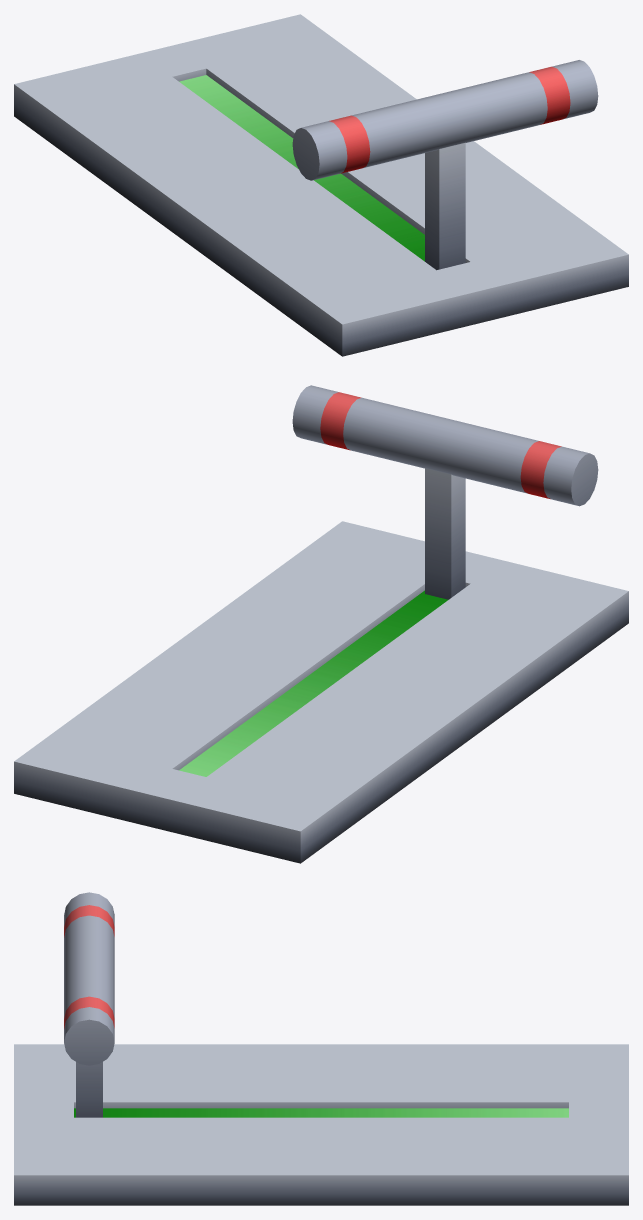
File: Switch1.FBX
3 renders of one model, top to bottom at view 1: azimuth 30°, elevation 25°; view 2: azimuth 150°, elevation 25°; view 3: azimuth 270°, elevation 25°, orthographic. The views are drawn at different scales.
Parts seen in each view (by area): view 1: Switch1_Base, Switch1_Handle; view 2: Switch1_Base, Switch1_Handle; view 3: Switch1_Base, Switch1_Handle.
Part boxes in pixels (left/top/right/bottom): Switch1_Base: left=14, top=14, right=628, bottom=356; Switch1_Handle: left=292, top=60, right=598, bottom=270; Switch1_Base: left=14, top=521, right=628, bottom=863; Switch1_Handle: left=292, top=385, right=598, bottom=599; Switch1_Base: left=14, top=1044, right=628, bottom=1205; Switch1_Handle: left=64, top=892, right=114, bottom=1117.
Bounding box in the file's own units: 13.81 × 9.05 × 27.39.
